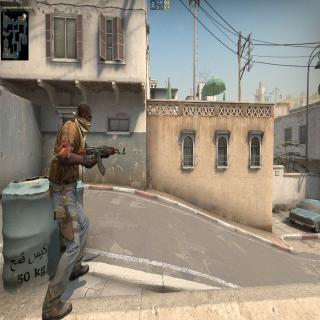T-Head: (72, 99, 94, 141)
